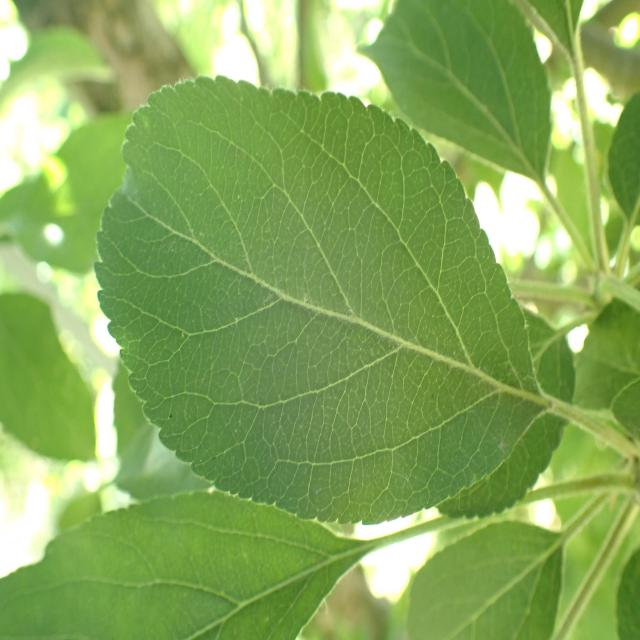healthy: (92, 72, 575, 527), (2, 490, 376, 640), (356, 1, 553, 184), (434, 304, 576, 521), (406, 520, 565, 640)
